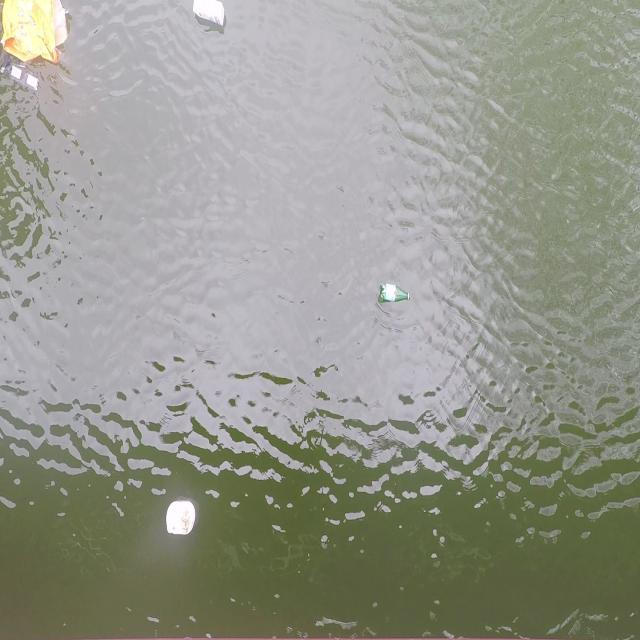Bouteille plastique: (375, 279, 414, 311)
Non plastique: (191, 0, 229, 27)
Sac plastique: (0, 0, 71, 65)
